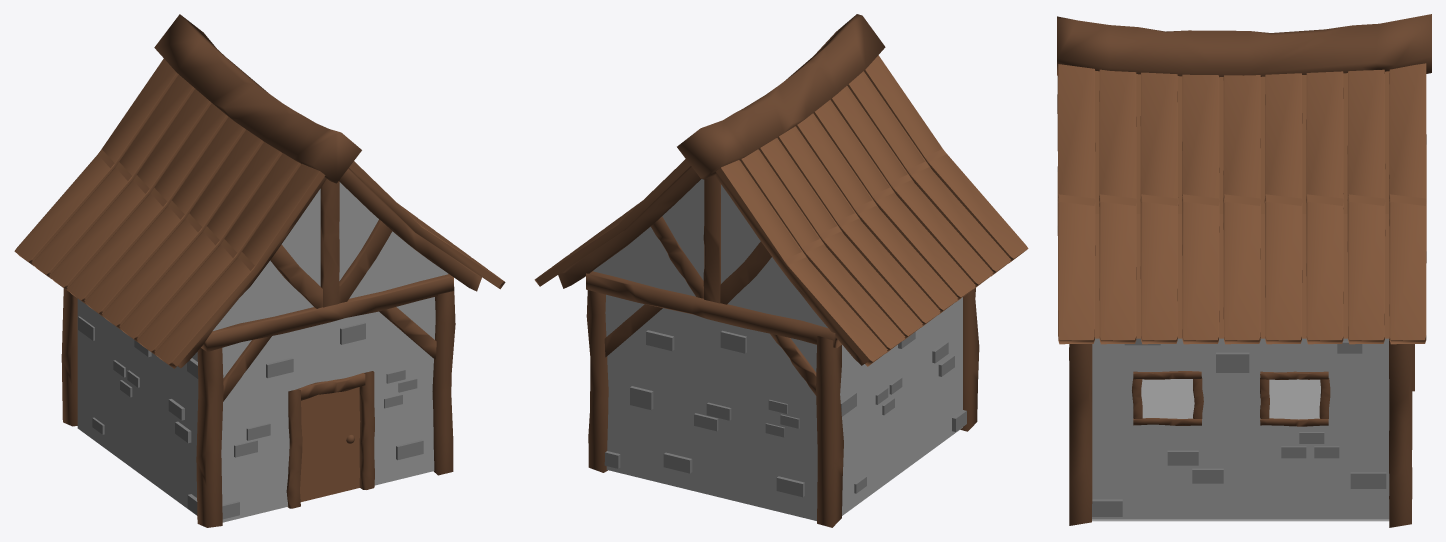
Rendered from ClerusHouse.fbx.
The picture shows the model from 3 angles, left to right: view 1: azimuth 30°, elevation 25°; view 2: azimuth 150°, elevation 25°; view 3: azimuth 270°, elevation 25°; orthographic projection. The views are drawn at different scales.
Visible parts, largest first — view 1: Cube.042, Wall_front, Wall_left, HousePillar2.013, Door, HousePillar5, HousePillar, HousePillar2, HousePillar2.003, HousePillar2.005, Cube.043, HousePillar.001 (+9 smaller); view 2: Cube.042, Wall_back, Wall_left, HousePillar2.013, HousePillar5.001, HousePillar.001, HousePillar2.008, HousePillar2.009, Cube.043, HousePillar2.011, HousePillar, Plane.001 (+5 smaller); view 3: Cube.043, Wall_right, HousePillar2.013, Plane, HousePillar2.008, HousePillar2, Window2, Window, Ground, Cube.023, Cube.027, WindowFrame.007 (+6 smaller).
Part boxes in pixels (<box>): Cube.042: <box>14,58,325,368</box>; Wall_front: <box>213,182,448,522</box>; Wall_left: <box>77,299,198,515</box>; HousePillar2.013: <box>154,14,361,183</box>; Door: <box>300,387,360,501</box>; HousePillar5: <box>201,274,454,351</box>; HousePillar: <box>196,348,223,527</box>; HousePillar2: <box>432,291,455,475</box>; HousePillar2.003: <box>339,169,481,291</box>; HousePillar2.005: <box>320,179,339,307</box>; Cube.043: <box>348,161,505,289</box>; HousePillar.001: <box>61,288,77,426</box>; Cube.042: <box>715,55,1028,366</box>; Wall_back: <box>593,179,827,520</box>; Wall_left: <box>840,297,962,515</box>; HousePillar2.013: <box>677,14,885,179</box>; HousePillar5.001: <box>586,271,841,347</box>; HousePillar.001: <box>816,336,843,527</box>; HousePillar2.008: <box>586,290,608,472</box>; HousePillar2.009: <box>558,167,701,288</box>; Cube.043: <box>534,159,691,286</box>; HousePillar2.011: <box>703,175,720,303</box>; HousePillar: <box>960,288,979,431</box>; Plane.001: <box>739,71,1010,349</box>; Cube.043: <box>1057,63,1426,344</box>; Wall_right: <box>1092,338,1389,519</box>; HousePillar2.013: <box>1057,14,1431,76</box>; Plane: <box>1094,70,1389,338</box>; HousePillar2.008: <box>1389,338,1412,527</box>; HousePillar2: <box>1069,344,1092,525</box>; Window2: <box>1141,379,1194,418</box>; Window: <box>1269,379,1320,419</box>; Ground: <box>1092,398,1389,521</box>; Cube.023: <box>1216,352,1249,372</box>; Cube.027: <box>1350,472,1386,488</box>; WindowFrame.007: <box>1260,371,1328,379</box>.
Bounding box in the file's own units: 371 × 396 × 303.
